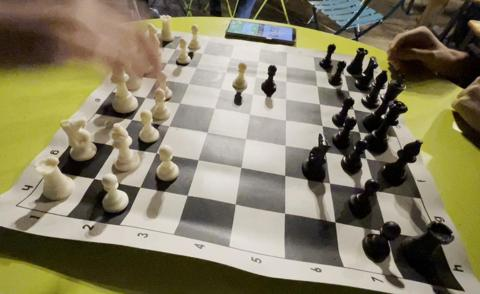xcorner: (339, 68, 351, 80), (310, 63, 322, 75), (281, 59, 293, 71), (253, 54, 265, 66), (197, 46, 209, 58), (169, 42, 181, 54), (343, 83, 355, 95), (312, 78, 324, 90), (281, 74, 293, 86), (250, 69, 262, 81), (220, 64, 232, 76), (190, 59, 202, 71), (161, 55, 173, 67), (348, 102, 360, 114), (314, 96, 326, 108), (281, 91, 293, 103), (215, 80, 227, 92), (183, 75, 195, 87), (151, 70, 163, 82), (355, 123, 367, 135), (281, 111, 293, 123), (245, 105, 257, 117), (209, 99, 221, 111), (174, 94, 186, 106), (140, 88, 152, 100), (362, 149, 374, 161), (321, 142, 333, 154), (281, 136, 293, 148), (241, 129, 253, 141), (202, 122, 214, 134), (164, 116, 176, 128), (126, 110, 138, 122), (371, 181, 383, 193), (326, 173, 338, 185), (281, 166, 293, 178), (237, 158, 249, 170), (194, 150, 206, 162), (151, 143, 163, 155), (109, 136, 121, 148), (383, 221, 395, 233), (331, 212, 343, 224), (281, 203, 293, 215), (231, 194, 243, 206), (183, 185, 195, 197), (135, 177, 147, 189), (88, 168, 100, 180), (225, 50, 236, 62), (248, 86, 260, 97), (318, 117, 329, 129)
